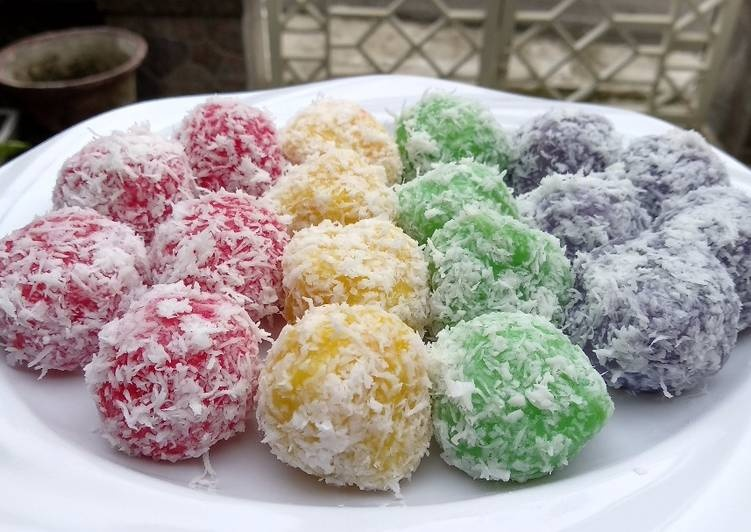klepon: (244, 302, 437, 485), (70, 273, 256, 457)
